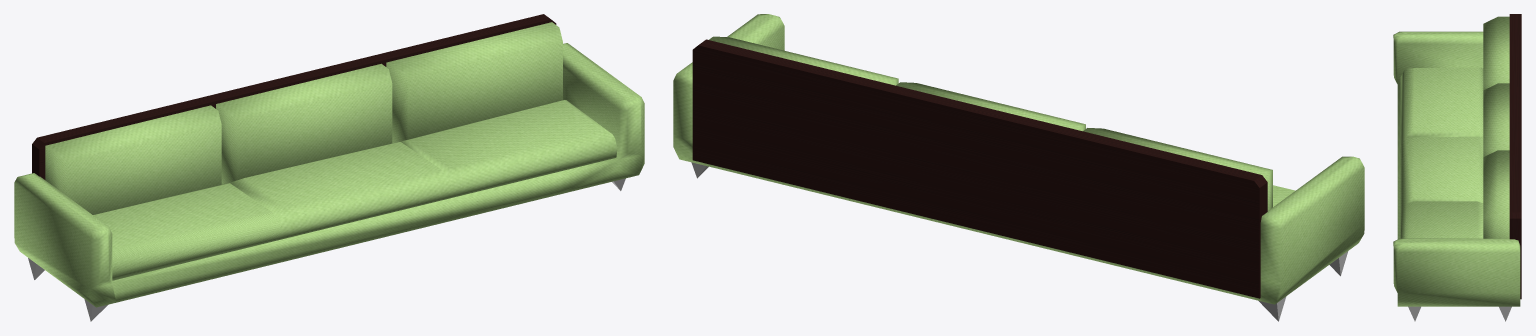
The model's file is Long_Sofa_E.FBX.
The picture shows the model from 3 angles, left to right: view 1: azimuth 30°, elevation 25°; view 2: azimuth 150°, elevation 25°; view 3: azimuth 270°, elevation 25°; orthographic projection. The views are drawn at different scales.
Parts seen in each view (by area): view 1: Long_Sofa; view 2: Long_Sofa; view 3: Long_Sofa.
Boxes of the visible parts, x1,y1,x2,y2 form: Long_Sofa: (14, 14, 644, 321); Long_Sofa: (673, 14, 1364, 321); Long_Sofa: (1393, 14, 1521, 321).
Bounding box in the file's own units: 685 × 157 × 171.
